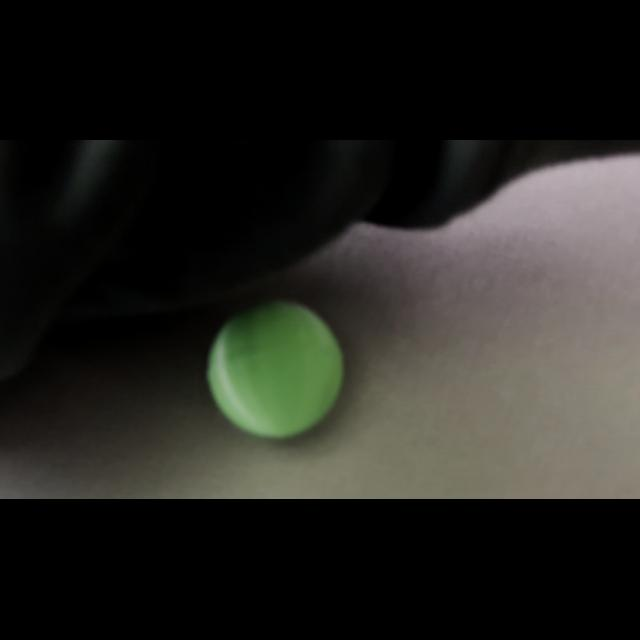objects: (195, 289, 355, 451)
